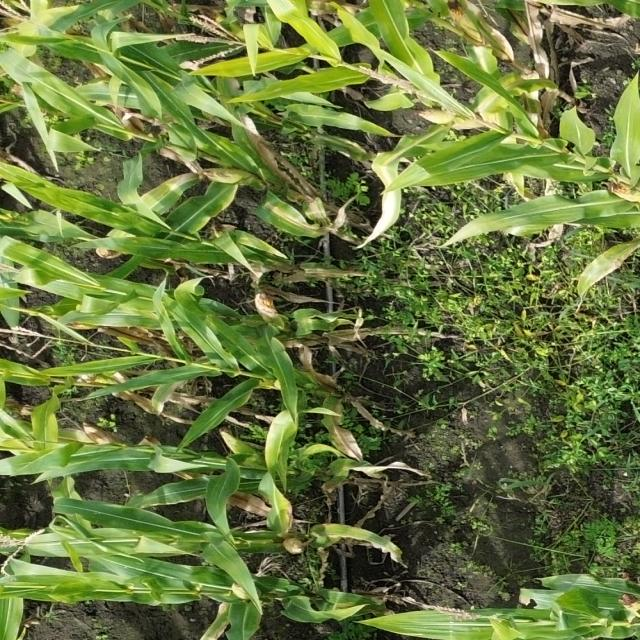gray-leaf-spot: (324, 590, 374, 617)
northern-leaf-blight: (260, 196, 316, 236), (498, 1, 532, 37), (479, 81, 516, 112)
southern-leaf-blight: (292, 102, 345, 121), (424, 620, 484, 636)
